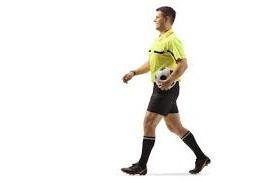Human: (120, 1, 213, 178)
